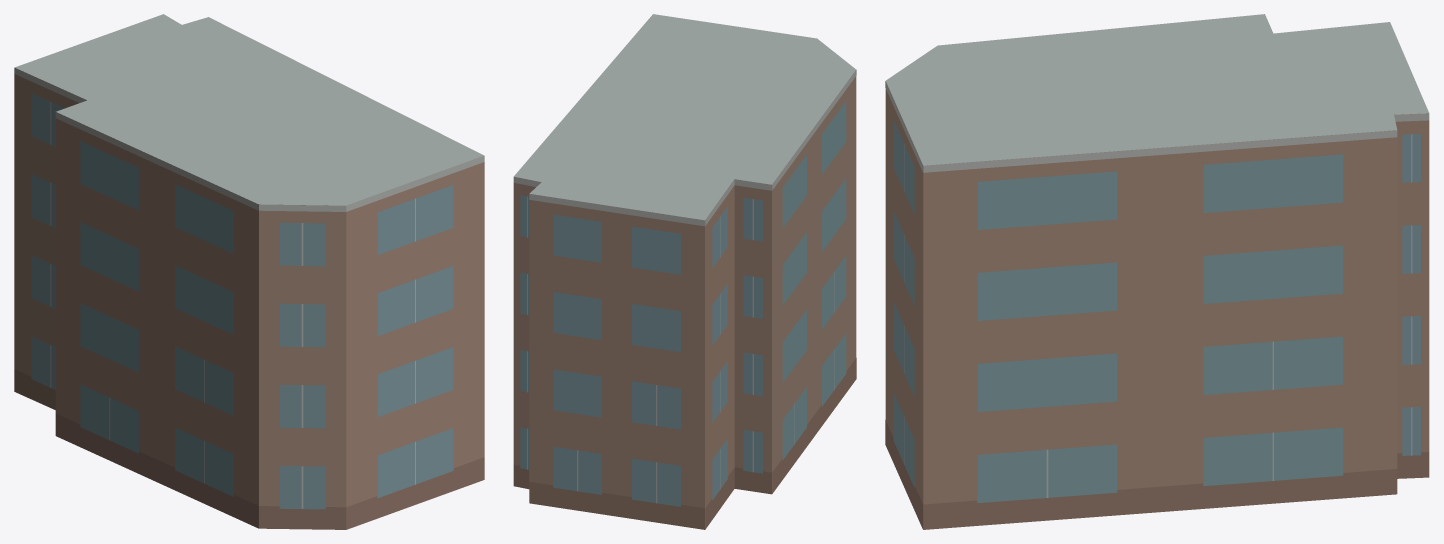
The model's file is survey-upis-32998762.glb.
The picture shows the model from 3 angles, left to right: view 1: azimuth 30°, elevation 25°; view 2: azimuth 150°, elevation 25°; view 3: azimuth 270°, elevation 25°; orthographic projection. The views are drawn at different scales.
Parts seen in each view (by area): view 1: survey-upis-32998762.tmp; view 2: survey-upis-32998762.tmp; view 3: survey-upis-32998762.tmp.
Boxes of the visible parts, x1,y1,x2,y2 form: survey-upis-32998762.tmp: (14, 14, 484, 529); survey-upis-32998762.tmp: (513, 14, 856, 529); survey-upis-32998762.tmp: (885, 14, 1429, 529).
Size of the model in its own units: 11.18 by 12.5 by 16.93.
